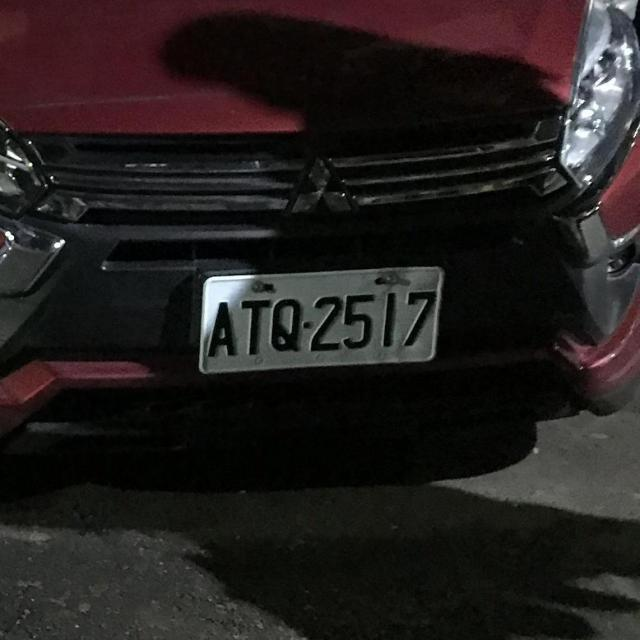W: (188, 242, 454, 393)
